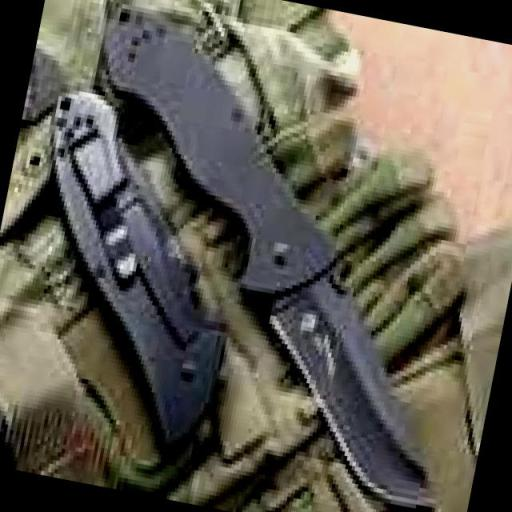knife: (25, 0, 512, 511)
